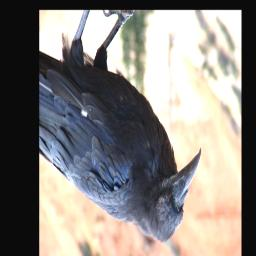Crow: (40, 11, 202, 249)
